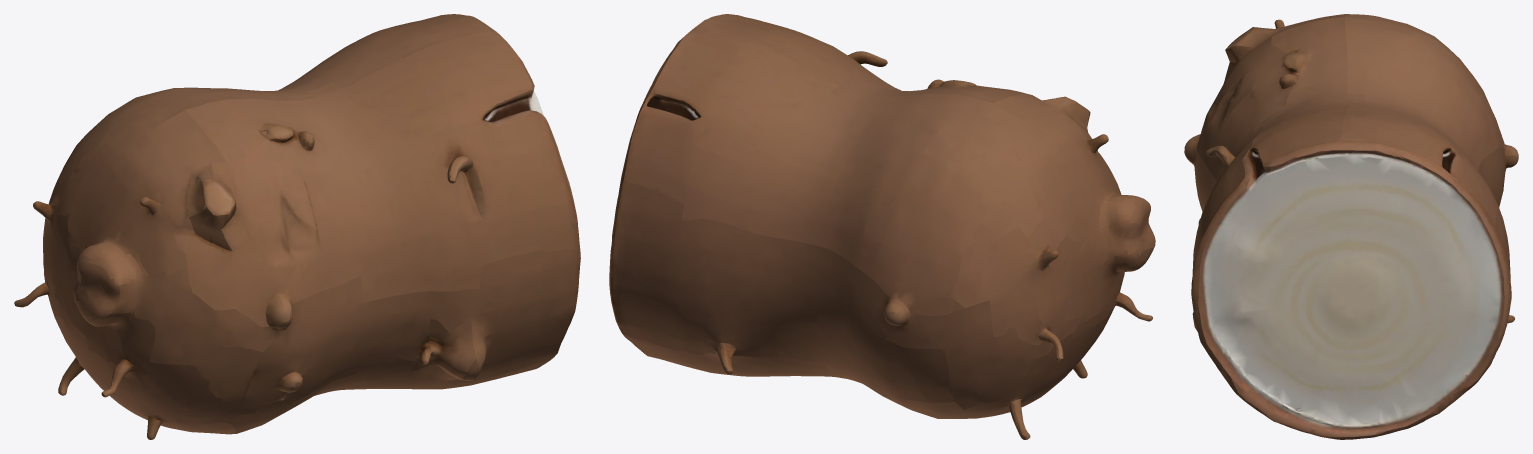
The model's file is yam.glb.
The picture shows the model from 3 angles, left to right: view 1: azimuth 30°, elevation 25°; view 2: azimuth 150°, elevation 25°; view 3: azimuth 270°, elevation 25°; orthographic projection. The views are drawn at different scales.
Visible parts, largest first — view 1: geometry_0; view 2: geometry_0; view 3: geometry_0.
Boxes of the visible parts, x1=… form: geometry_0: x1=14, y1=14, x2=580, y2=439; geometry_0: x1=609, y1=14, x2=1155, y2=439; geometry_0: x1=1184, y1=14, x2=1518, y2=439.
Size of the model in its own units: 0.45 by 0.3238 by 0.3317.
1 material, 1 textured.
